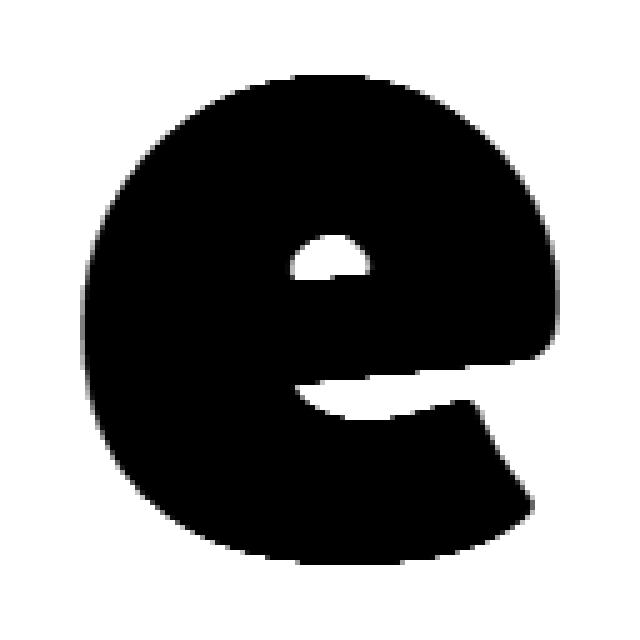E: (80, 75, 565, 570)
